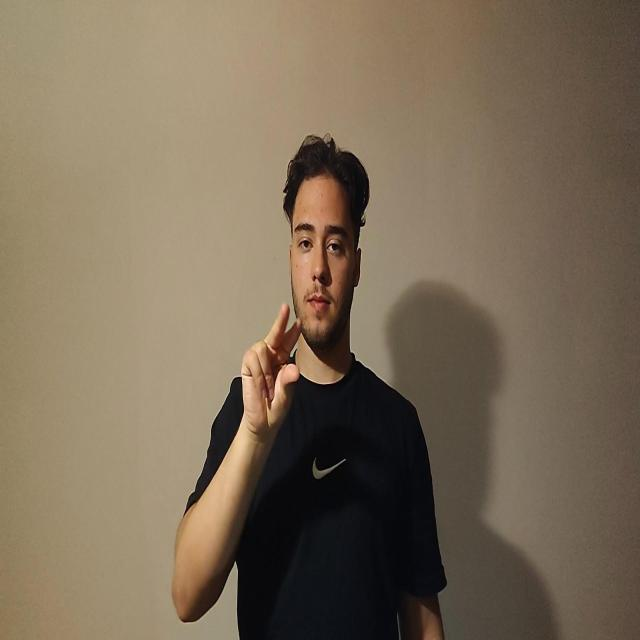no: (240, 302, 302, 444)
